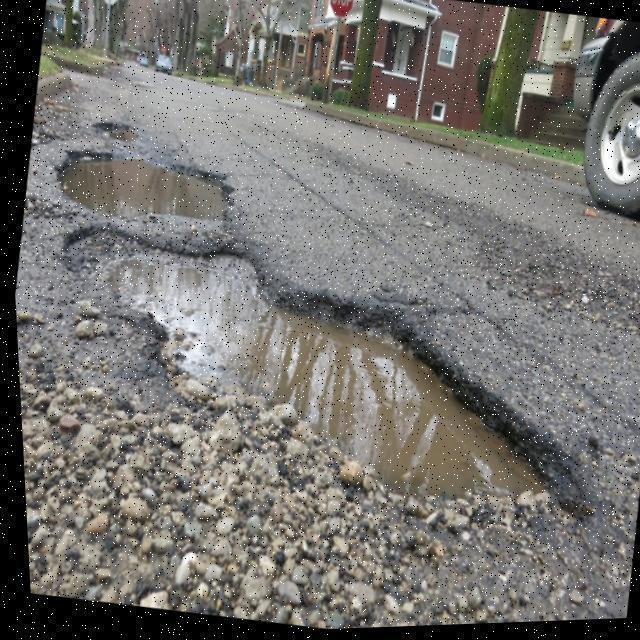Pothole: (62, 219, 596, 522), (64, 160, 225, 219), (92, 121, 136, 141)
